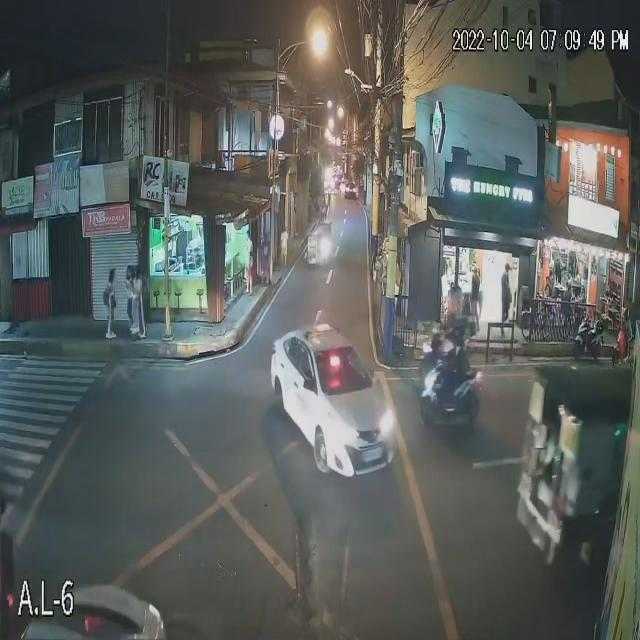helmet: (451, 324, 470, 347)
motorcycle: (416, 373, 482, 426), (573, 318, 605, 360)
rider: (448, 342, 470, 391)
